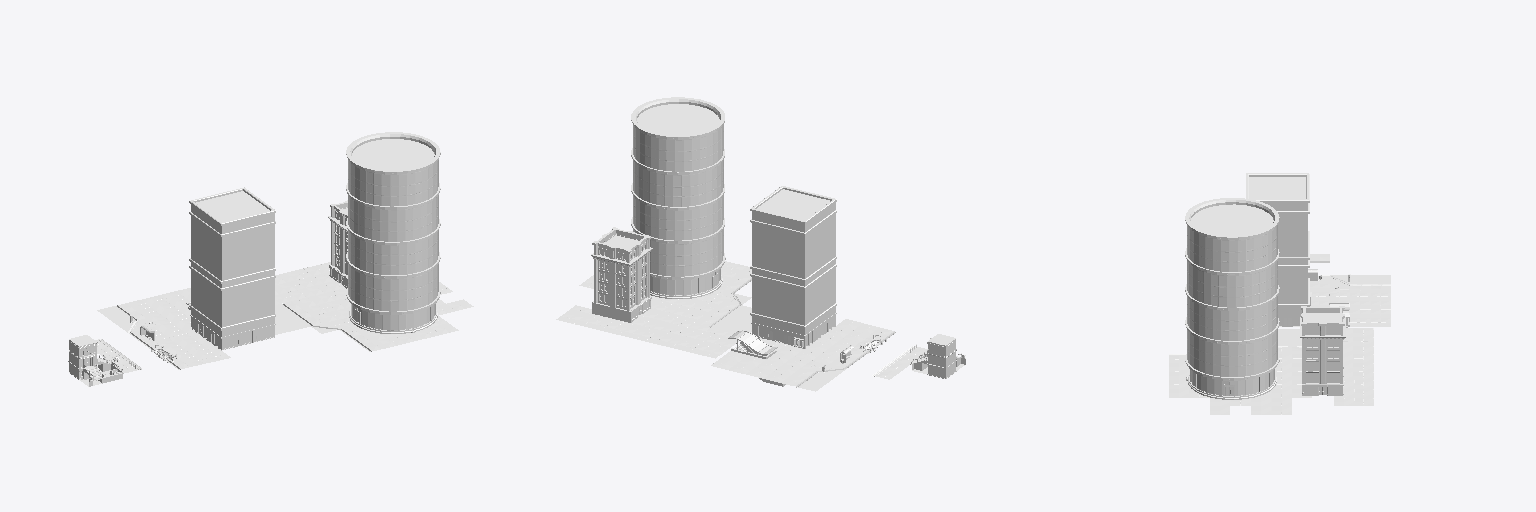
File: start_chunk.obj
3 views of the same model, side by side, from view 1: azimuth 30°, elevation 25°; view 2: azimuth 150°, elevation 25°; view 3: azimuth 270°, elevation 25° (orthographic).
Visible parts, largest first — view 1: SM_Bld_OfficeSquare_01_Scene.008, SM_Bld_OfficeRound_Roof_04_Scene.021, SM_Bld_OfficeRound_02_Scene.020, SM_Bld_OfficeRound_04_Scene.020, SM_Bld_OfficeRound_05_Scene.020, SM_Bld_OfficeRound_03_Scene.020, SM_Bld_OfficeSquare_Roof_01_Scene.007, SM_Bld_OfficeRound_Base_01_Glass_Scene.019, SM_Bld_OfficeRound_Base_01_Scene.018, SM_Bld_Apartment_Stairs_Corner_01_Scene.034, SM_Bld_OfficeSquare_Base_01_Glass_Scene.006; view 2: SM_Bld_OfficeSquare_01_Scene.008, SM_Bld_OfficeRound_Roof_04_Scene.021, SM_Bld_OfficeRound_04_Scene.020, SM_Bld_OfficeRound_05_Scene.020, SM_Bld_OfficeRound_03_Scene.020, SM_Bld_OfficeRound_02_Scene.020, SM_Bld_OfficeSquare_Roof_01_Scene.007, SM_Bld_OfficeOld_Small_Roof_01_Scene.017, SM_Bld_OfficeRound_Base_01_Glass_Scene.019, SM_Bld_OfficeRound_Base_01_Scene.018, SM_Bld_Apartment_Stairs_Corner_01_Scene.034, SM_Bld_OfficeOld_Small_Floor_01_Scene.016 (+4 smaller); view 3: SM_Bld_OfficeRound_Roof_04_Scene.021, SM_Bld_OfficeSquare_01_Scene.008, SM_Bld_OfficeRound_02_Scene.020, SM_Bld_OfficeRound_05_Scene.020, SM_Bld_OfficeRound_04_Scene.020, SM_Bld_OfficeRound_03_Scene.020, SM_Bld_OfficeSquare_Roof_01_Scene.007, SM_Bld_OfficeOld_Small_Roof_01_Scene.017, SM_Bld_OfficeRound_Base_01_Glass_Scene.019, SM_Bld_OfficeRound_Base_01_Scene.018.
Part boxes in pixels (x1,y1,x2,y2): SM_Bld_OfficeSquare_01_Scene.008: (191, 205, 274, 336); SM_Bld_OfficeRound_Roof_04_Scene.021: (346, 132, 440, 174); SM_Bld_OfficeRound_02_Scene.020: (348, 264, 438, 311); SM_Bld_OfficeRound_04_Scene.020: (348, 195, 438, 241); SM_Bld_OfficeRound_05_Scene.020: (348, 160, 438, 206); SM_Bld_OfficeRound_03_Scene.020: (348, 230, 438, 274); SM_Bld_OfficeSquare_Roof_01_Scene.007: (189, 187, 275, 225); SM_Bld_OfficeRound_Base_01_Glass_Scene.019: (352, 304, 434, 329); SM_Bld_OfficeRound_Base_01_Scene.018: (346, 288, 440, 333); SM_Bld_Apartment_Stairs_Corner_01_Scene.034: (68, 355, 124, 386); SM_Bld_OfficeSquare_Base_01_Glass_Scene.006: (191, 317, 273, 348); SM_Bld_OfficeSquare_01_Scene.008: (752, 202, 835, 334); SM_Bld_OfficeRound_Roof_04_Scene.021: (631, 97, 724, 139); SM_Bld_OfficeRound_04_Scene.020: (633, 160, 723, 206); SM_Bld_OfficeRound_05_Scene.020: (633, 124, 723, 171); SM_Bld_OfficeRound_03_Scene.020: (633, 195, 723, 240); SM_Bld_OfficeRound_02_Scene.020: (633, 229, 723, 276); SM_Bld_OfficeSquare_Roof_01_Scene.007: (750, 186, 836, 223); SM_Bld_OfficeOld_Small_Roof_01_Scene.017: (591, 227, 652, 266); SM_Bld_OfficeRound_Base_01_Glass_Scene.019: (650, 270, 719, 294); SM_Bld_OfficeRound_Base_01_Scene.018: (650, 253, 725, 298); SM_Bld_Apartment_Stairs_Corner_01_Scene.034: (910, 350, 965, 378); SM_Bld_OfficeOld_Small_Floor_01_Scene.016: (594, 286, 649, 311); SM_Bld_OfficeRound_Roof_04_Scene.021: (1185, 198, 1279, 239); SM_Bld_OfficeSquare_01_Scene.008: (1265, 203, 1307, 313); SM_Bld_OfficeRound_02_Scene.020: (1187, 329, 1277, 376); SM_Bld_OfficeRound_05_Scene.020: (1187, 225, 1277, 271); SM_Bld_OfficeRound_04_Scene.020: (1187, 261, 1277, 307); SM_Bld_OfficeRound_03_Scene.020: (1187, 296, 1277, 340); SM_Bld_OfficeSquare_Roof_01_Scene.007: (1246, 173, 1309, 202); SM_Bld_OfficeOld_Small_Roof_01_Scene.017: (1300, 306, 1345, 339); SM_Bld_OfficeRound_Base_01_Glass_Scene.019: (1191, 370, 1273, 395); SM_Bld_OfficeRound_Base_01_Scene.018: (1185, 354, 1279, 399).
Size of the model in its own units: 103 by 50.31 by 54.19.